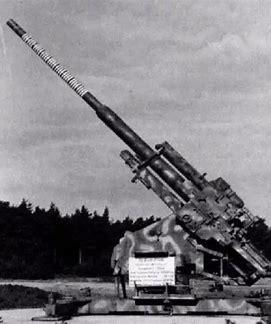MIL_SPG: (7, 20, 270, 316)
